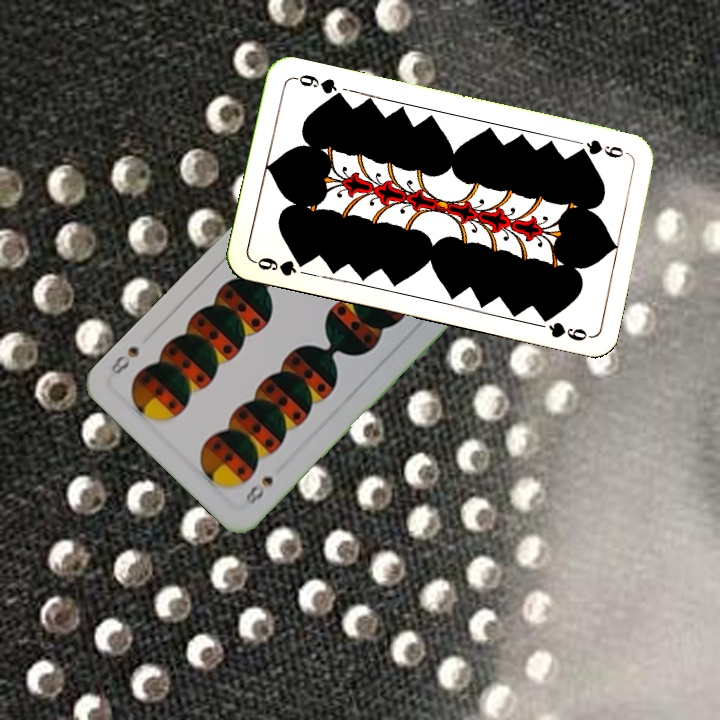G9: (250, 253, 310, 279), (573, 136, 632, 161)
S8: (241, 472, 276, 511)
